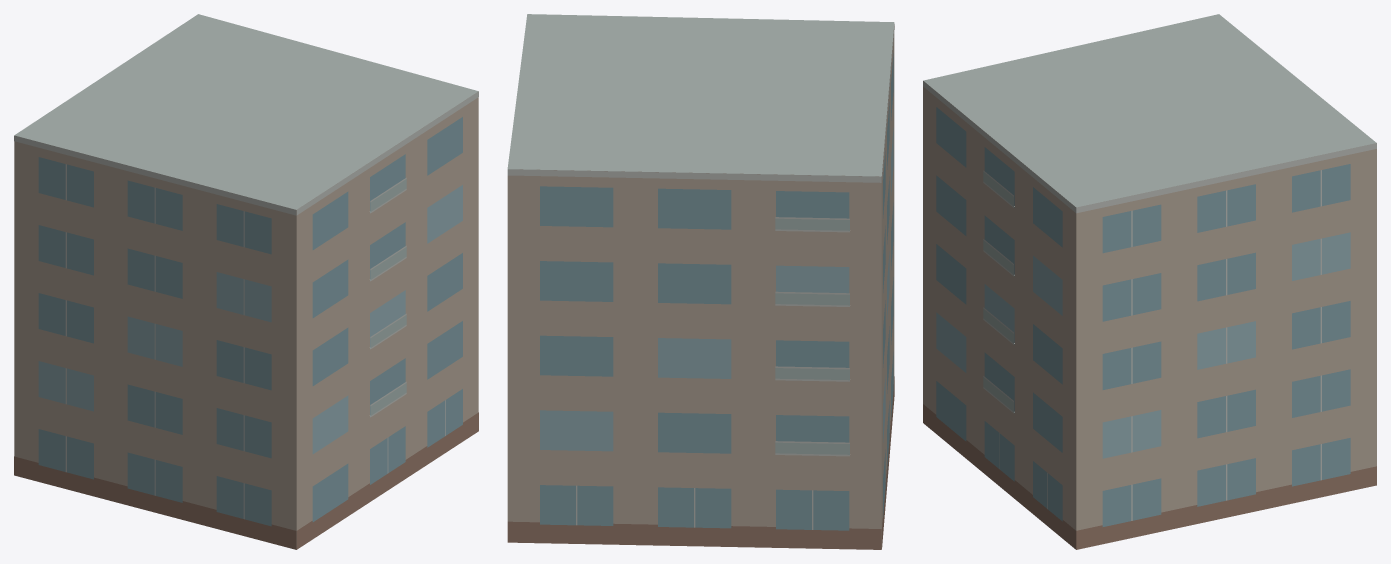
File: survey-upis-32949478.glb
The picture shows the model from 3 angles, left to right: view 1: azimuth 30°, elevation 25°; view 2: azimuth 150°, elevation 25°; view 3: azimuth 270°, elevation 25°; orthographic projection. The views are drawn at different scales.
Parts seen in each view (by area): view 1: survey-upis-32949478.tmp; view 2: survey-upis-32949478.tmp; view 3: survey-upis-32949478.tmp.
Part boxes in pixels (x1,y1,x2,y2): survey-upis-32949478.tmp: (14, 14, 478, 549); survey-upis-32949478.tmp: (507, 14, 894, 549); survey-upis-32949478.tmp: (923, 14, 1376, 549).
Size of the model in its own units: 17.4 by 14.35 by 17.24.
